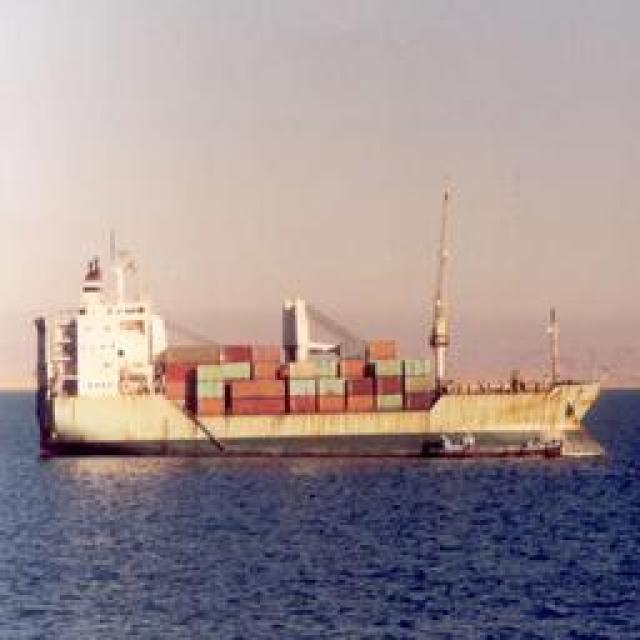CIV_Ship: (34, 294, 608, 466)
